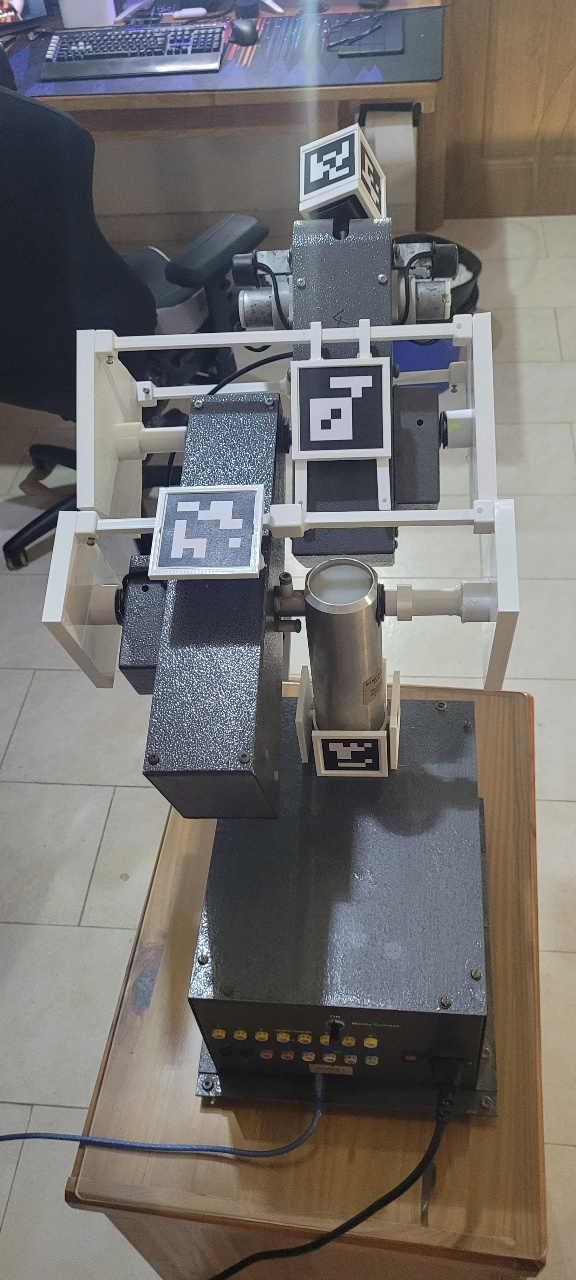Robot: (7, 221, 499, 1280)
